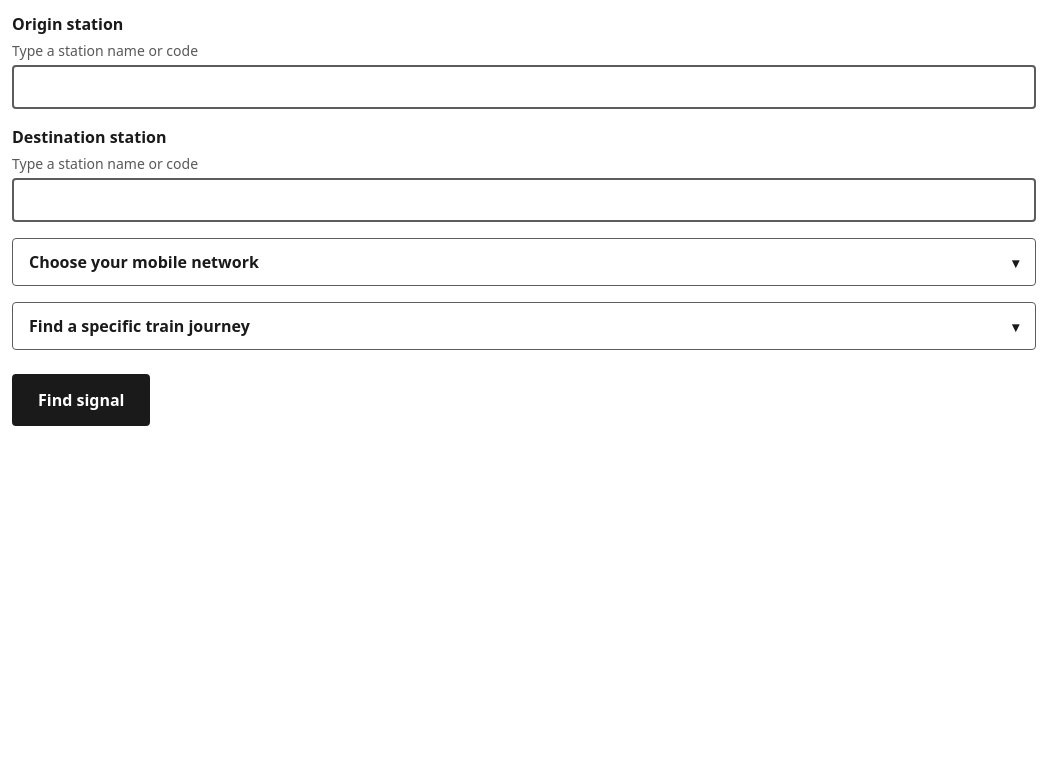
Test: JourneyForm progressive reveal › collapses date/time fields when toggle is clicked again
Click the button "Find a specific train journey ▾".
click(139, 326)  # box [12,302,1036,350]
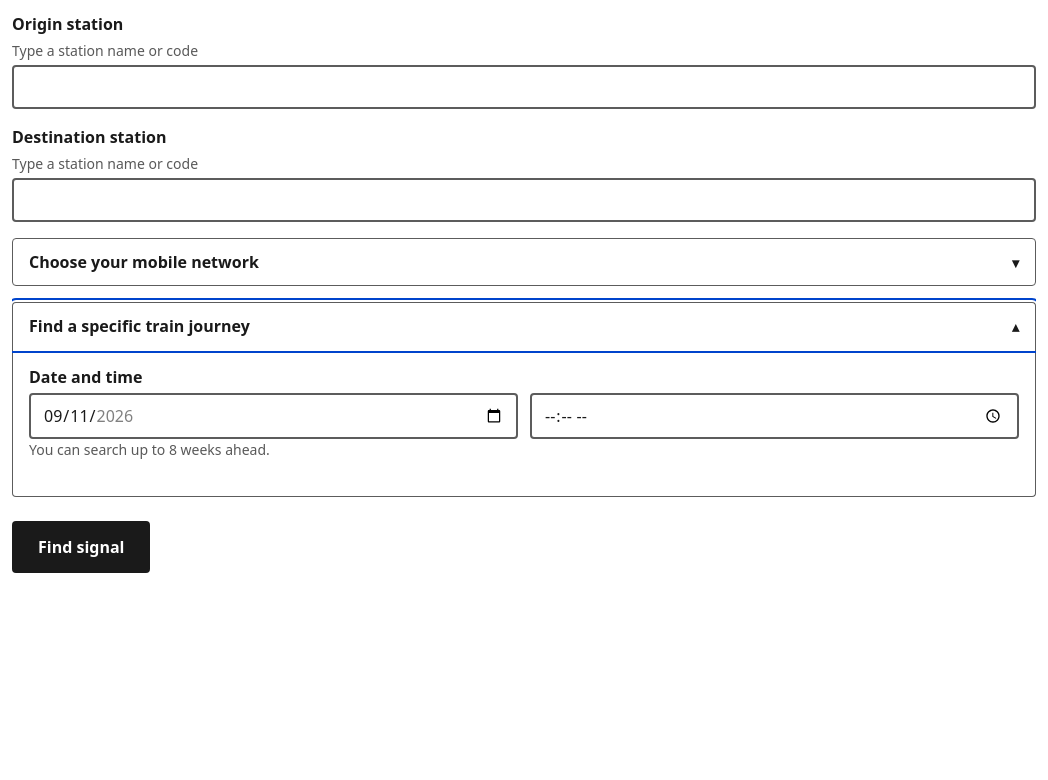
Click the button "Find a specific train journey ▴".
click(139, 326)  # box [12,302,1036,349]
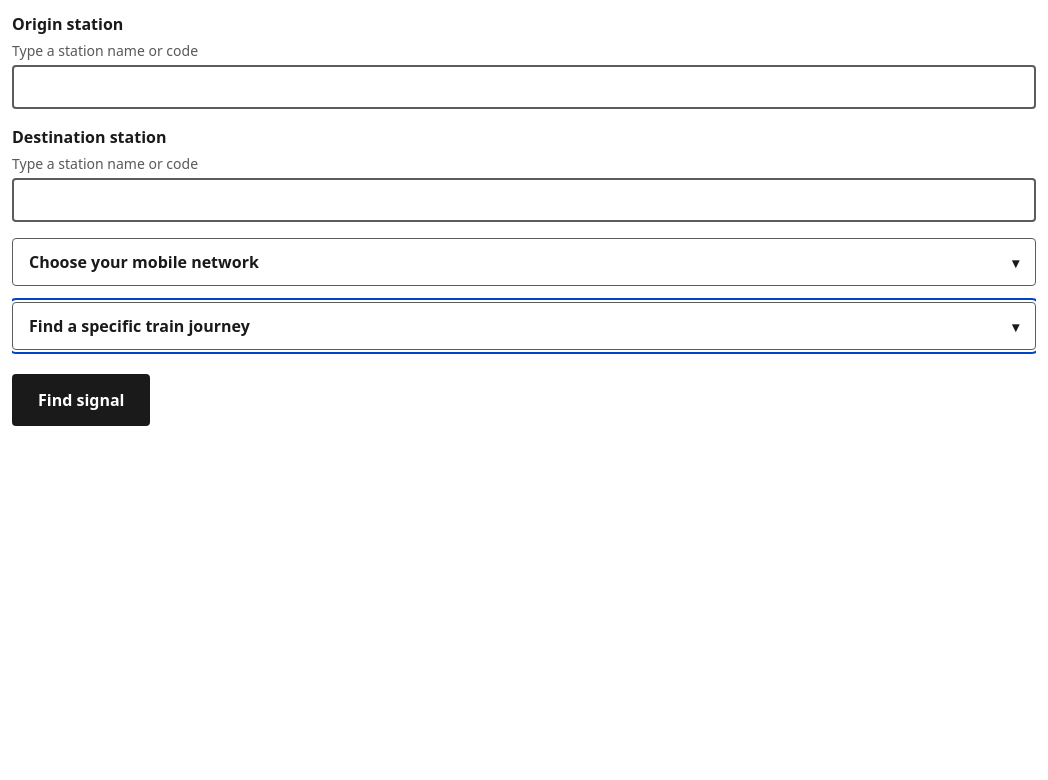
Expected: the button "Find a specific train journey ▾" is collapsed, [12,302,1036,350]
